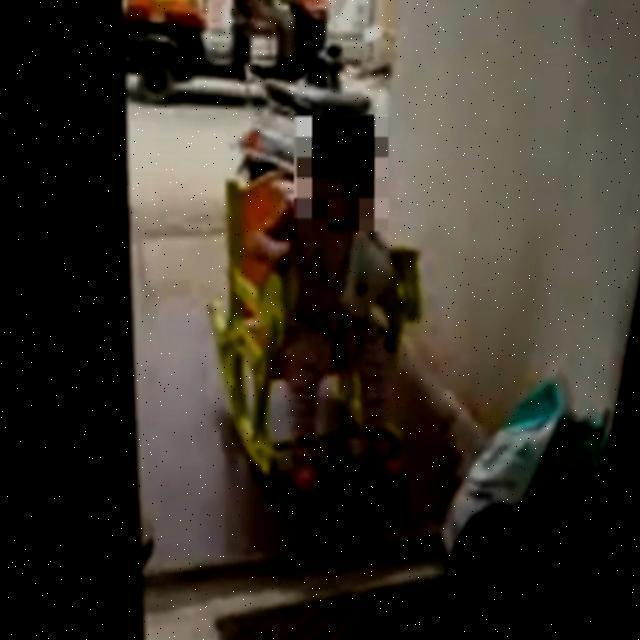child: (250, 113, 418, 492)
